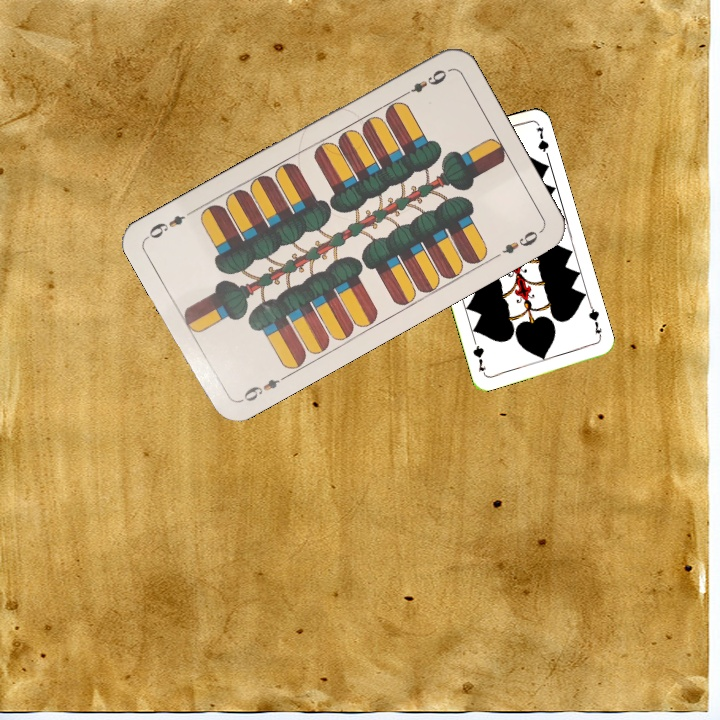E9: (236, 371, 290, 405), (397, 65, 449, 100)
G7: (584, 301, 604, 341)
